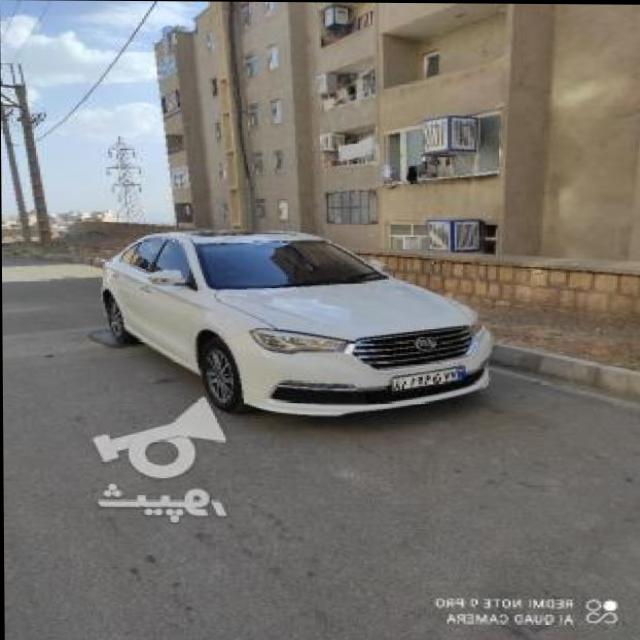licence: (389, 364, 467, 387)
